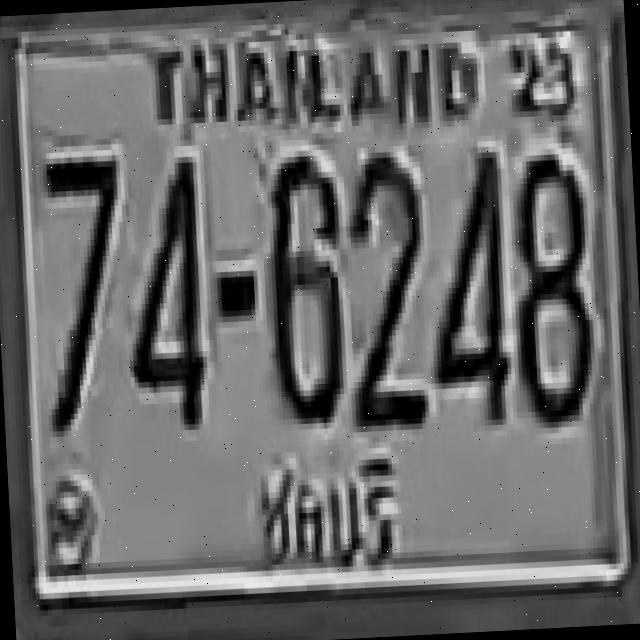2: (339, 150, 430, 427)
4: (419, 144, 510, 420), (119, 151, 206, 427)
6: (260, 150, 347, 420)
7: (34, 150, 130, 432)
8: (506, 148, 592, 424)
Chonburi: (241, 447, 415, 592)
